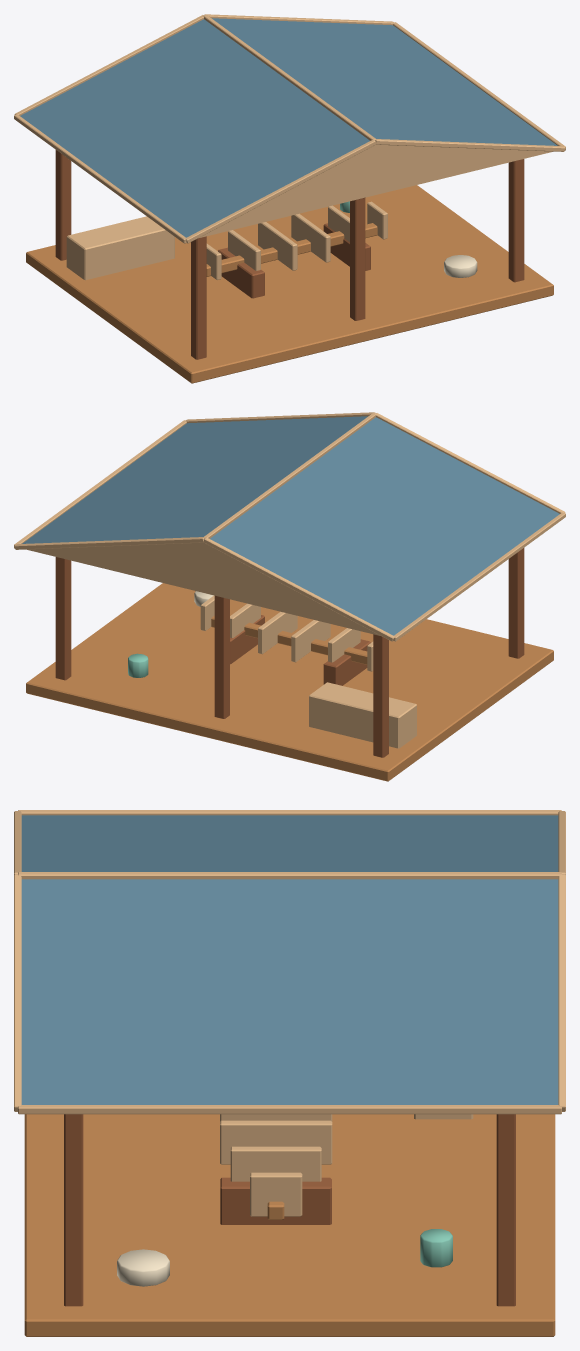
File: F26-old-boatyard.glb
3 views of the same model, one above another, from view 1: azimuth 30°, elevation 25°; view 2: azimuth 150°, elevation 25°; view 3: azimuth 270°, elevation 25° (orthographic). The views are drawn at different scales.
Parts seen in each view (by area): view 1: Boatyard_Roof, warm_cedar, honey_wood, toasted_wood, Rope_Coil; view 2: Boatyard_Roof, warm_cedar, honey_wood, toasted_wood, Paint_Bucket; view 3: Boatyard_Roof, warm_cedar, honey_wood, toasted_wood, Rope_Coil, Paint_Bucket.
Boxes of the visible parts, x1,y1,x2,y2 form: Boatyard_Roof: (20,18,557,238); warm_cedar: (26,185,553,383); honey_wood: (14,14,565,280); toasted_wood: (55,150,524,359); Rope_Coil: (444,255,477,277); Boatyard_Roof: (22,416,559,636); warm_cedar: (26,583,553,781); honey_wood: (14,412,565,748); toasted_wood: (55,548,524,757); Paint_Bucket: (128,653,148,677); Boatyard_Roof: (21,815,558,1104); warm_cedar: (24,1114,555,1336); honey_wood: (14,810,565,1216); toasted_wood: (64,1114,515,1306); Rope_Coil: (117,1249,169,1286); Paint_Bucket: (420,1229,452,1267).
Bounding box in the file's own units: 10.11 × 5.11 × 7.91.
